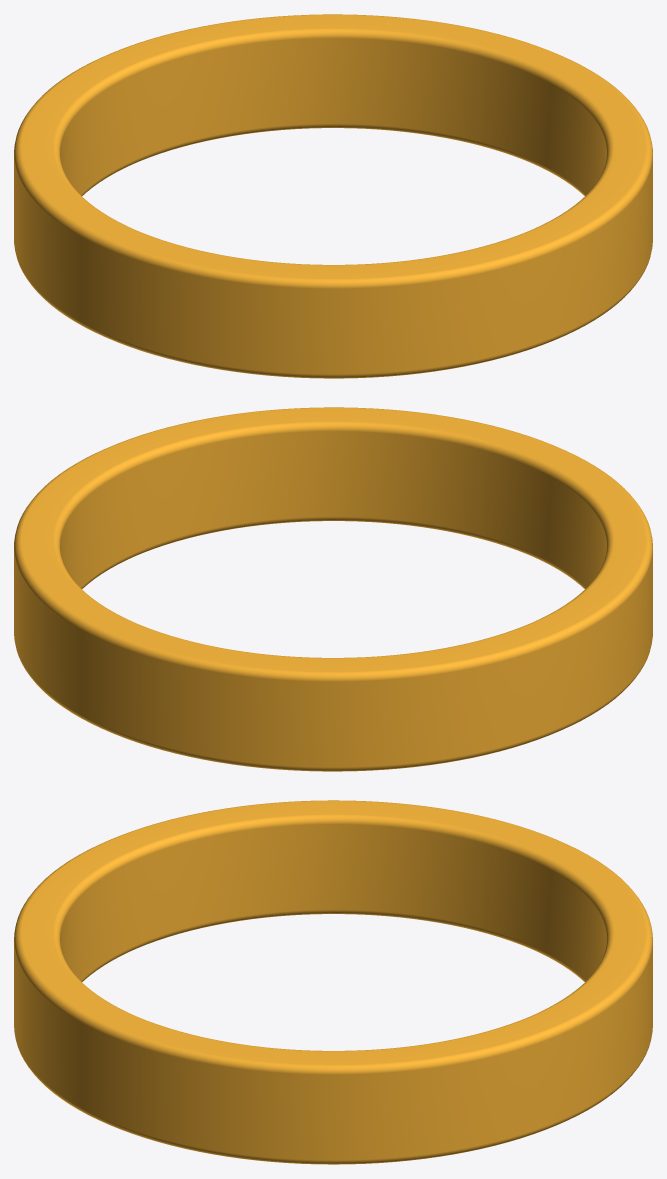
The model's file is ExpulsionTubeConnector.glb.
3 renders of one model, top to bottom at view 1: azimuth 30°, elevation 25°; view 2: azimuth 150°, elevation 25°; view 3: azimuth 270°, elevation 25°, orthographic.
Visible parts, largest first — view 1: GoldJoiningCollar; view 2: GoldJoiningCollar; view 3: GoldJoiningCollar.
Boxes of the visible parts, x1=… form: GoldJoiningCollar: x1=14, y1=14, x2=652, y2=378; GoldJoiningCollar: x1=14, y1=407, x2=652, y2=771; GoldJoiningCollar: x1=14, y1=800, x2=652, y2=1164.
Bounding box in the file's own units: 0.76 × 0.13 × 0.76.
1 material, 1 textured.
